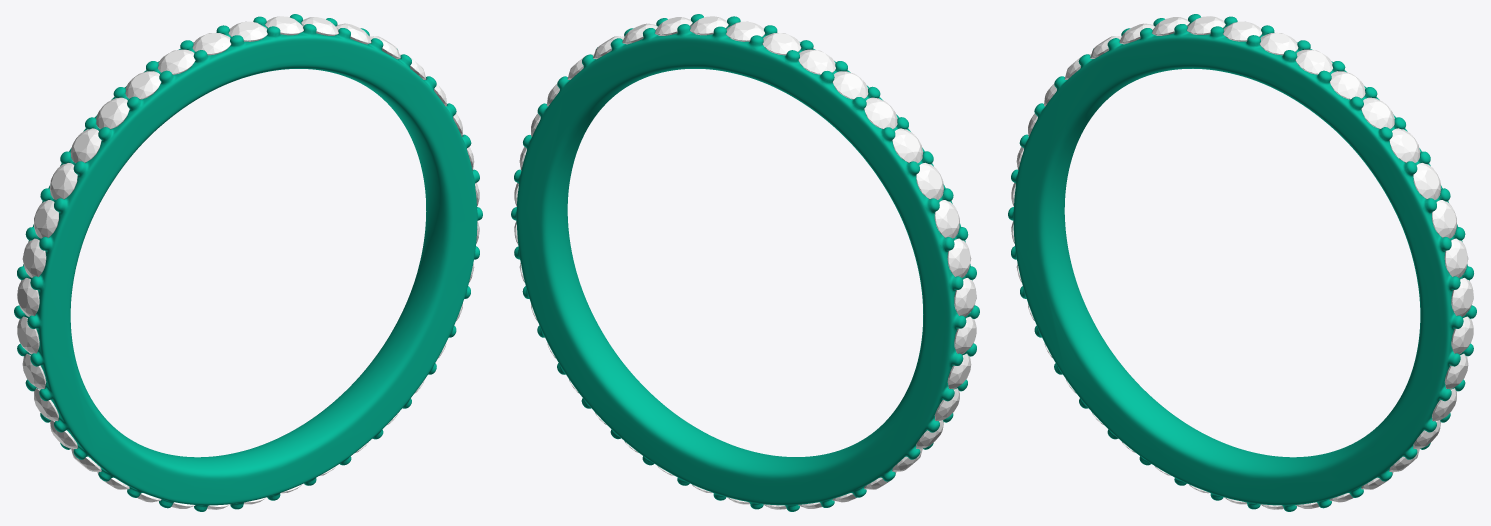
File: BE2PD50R50LC_RENDER.glb
The picture shows the model from 3 angles, left to right: view 1: azimuth 30°, elevation 25°; view 2: azimuth 150°, elevation 25°; view 3: azimuth 330°, elevation 25°; orthographic projection.
Parts seen in each view (by area): view 1: Metal03, Diamond_Round_Gem_BD.005, Diamond_Round_Gem_BD.004, Diamond_Round_Gem_BD.006, Diamond_Round_Gem_BD.003, Diamond_Round_Gem_BD.007, Diamond_Round_Gem_BD.002, Diamond_Round_Gem_BD.008, Diamond_Round_Gem_BD.009, Diamond_Round_Gem_BD.001, Diamond_Round_Gem_BD, Diamond_Round_Gem_BD.010; view 2: Metal03, Diamond_Round_Gem_BD.005, Diamond_Round_Gem_BD.004, Diamond_Round_Gem_BD.006, Diamond_Round_Gem_BD.007, Diamond_Round_Gem_BD.003, Diamond_Round_Gem_BD.002, Diamond_Round_Gem_BD.008, Diamond_Round_Gem_BD.001, Diamond_Round_Gem_BD.009, Diamond_Round_Gem_BD, Diamond_Round_Gem_BD.010; view 3: Metal03, Diamond_Round_Gem_BD.033, Diamond_Round_Gem_BD.034, Diamond_Round_Gem_BD.032, Diamond_Round_Gem_BD.035, Diamond_Round_Gem_BD.031, Diamond_Round_Gem_BD.030, Diamond_Round_Gem_BD.036, Diamond_Round_Gem_BD.029, Diamond_Round_Gem_BD.037, Diamond_Round_Gem_BD, Diamond_Round_Gem_BD.028.
Boxes of the visible parts, x1,y1,x2,y2 form: Metal03: [14, 14, 482, 511]; Diamond_Round_Gem_BD.005: [70, 128, 101, 162]; Diamond_Round_Gem_BD.004: [96, 97, 129, 129]; Diamond_Round_Gem_BD.006: [49, 163, 77, 199]; Diamond_Round_Gem_BD.003: [125, 71, 161, 99]; Diamond_Round_Gem_BD.007: [34, 200, 58, 238]; Diamond_Round_Gem_BD.002: [158, 49, 195, 74]; Diamond_Round_Gem_BD.008: [22, 238, 46, 277]; Diamond_Round_Gem_BD.009: [17, 278, 39, 316]; Diamond_Round_Gem_BD.001: [192, 33, 231, 55]; Diamond_Round_Gem_BD: [228, 21, 267, 41]; Diamond_Round_Gem_BD.010: [17, 316, 39, 354]; Metal03: [511, 14, 979, 511]; Diamond_Round_Gem_BD.005: [892, 128, 923, 163]; Diamond_Round_Gem_BD.004: [864, 97, 897, 129]; Diamond_Round_Gem_BD.006: [916, 162, 943, 199]; Diamond_Round_Gem_BD.007: [934, 200, 959, 238]; Diamond_Round_Gem_BD.003: [832, 71, 868, 99]; Diamond_Round_Gem_BD.002: [798, 49, 835, 74]; Diamond_Round_Gem_BD.008: [947, 238, 971, 277]; Diamond_Round_Gem_BD.001: [762, 33, 801, 55]; Diamond_Round_Gem_BD.009: [954, 278, 976, 316]; Diamond_Round_Gem_BD: [726, 21, 765, 41]; Diamond_Round_Gem_BD.010: [954, 316, 976, 354]; Metal03: [1008, 14, 1476, 511]; Diamond_Round_Gem_BD.033: [1389, 128, 1420, 162]; Diamond_Round_Gem_BD.034: [1361, 97, 1394, 129]; Diamond_Round_Gem_BD.032: [1413, 163, 1441, 199]; Diamond_Round_Gem_BD.035: [1329, 71, 1365, 99]; Diamond_Round_Gem_BD.031: [1432, 200, 1456, 238]; Diamond_Round_Gem_BD.030: [1444, 238, 1468, 277]; Diamond_Round_Gem_BD.036: [1295, 49, 1332, 74]; Diamond_Round_Gem_BD.029: [1451, 277, 1473, 316]; Diamond_Round_Gem_BD.037: [1259, 32, 1298, 55]; Diamond_Round_Gem_BD: [1223, 21, 1262, 41]; Diamond_Round_Gem_BD.028: [1451, 316, 1473, 354].
Size of the model in its own units: 20.33 by 20.33 by 1.81.
